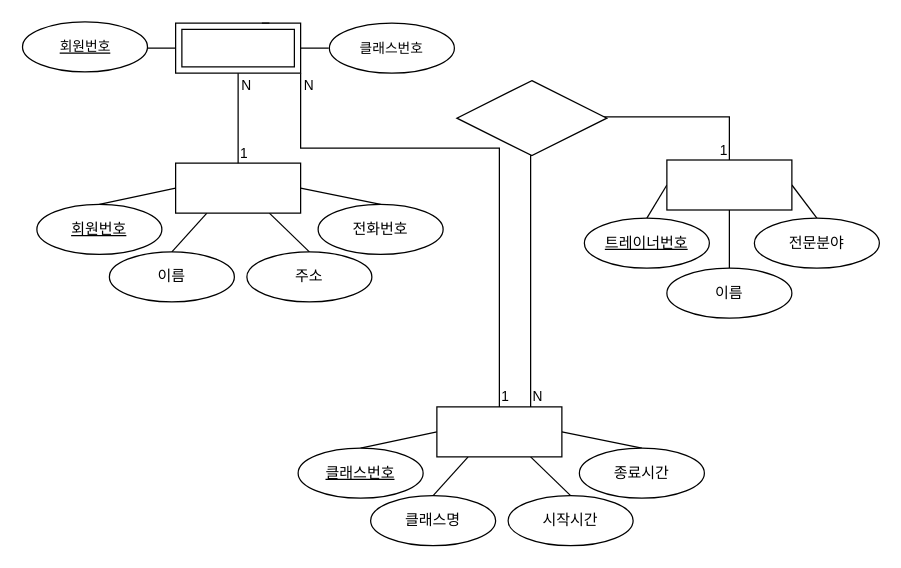
Some shapes in this 901 by 568 pixel diagram are drawn without their labels. The box of each missing label's shape, as (x1, y1, x2, y2) in pixels:
강습: (436, 406, 562, 457)
담당: (456, 79, 607, 156)
등록: (174, 22, 301, 73)
트레이너: (666, 159, 792, 210)
회원: (174, 162, 301, 213)
